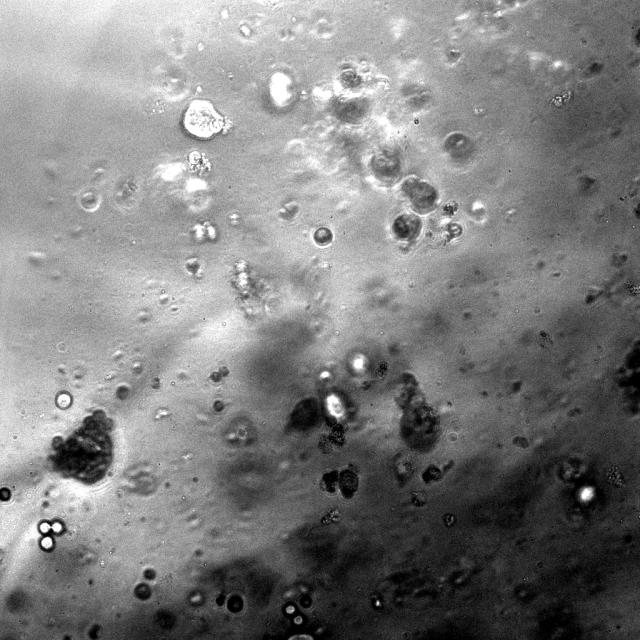organoid: (286, 56, 463, 253), (48, 410, 114, 484), (286, 385, 356, 453), (394, 373, 439, 450), (182, 98, 231, 140), (232, 261, 268, 314), (617, 339, 639, 412), (321, 464, 359, 499), (37, 518, 66, 552), (190, 221, 217, 243), (216, 592, 244, 613), (187, 151, 211, 175), (312, 225, 333, 246), (154, 609, 176, 629), (54, 390, 73, 410), (209, 364, 229, 383), (422, 465, 442, 483), (321, 507, 341, 525), (134, 582, 151, 600), (115, 383, 131, 400), (442, 201, 458, 217), (0, 486, 12, 504), (298, 593, 312, 608), (88, 623, 101, 639), (143, 567, 156, 579), (214, 400, 224, 411)
